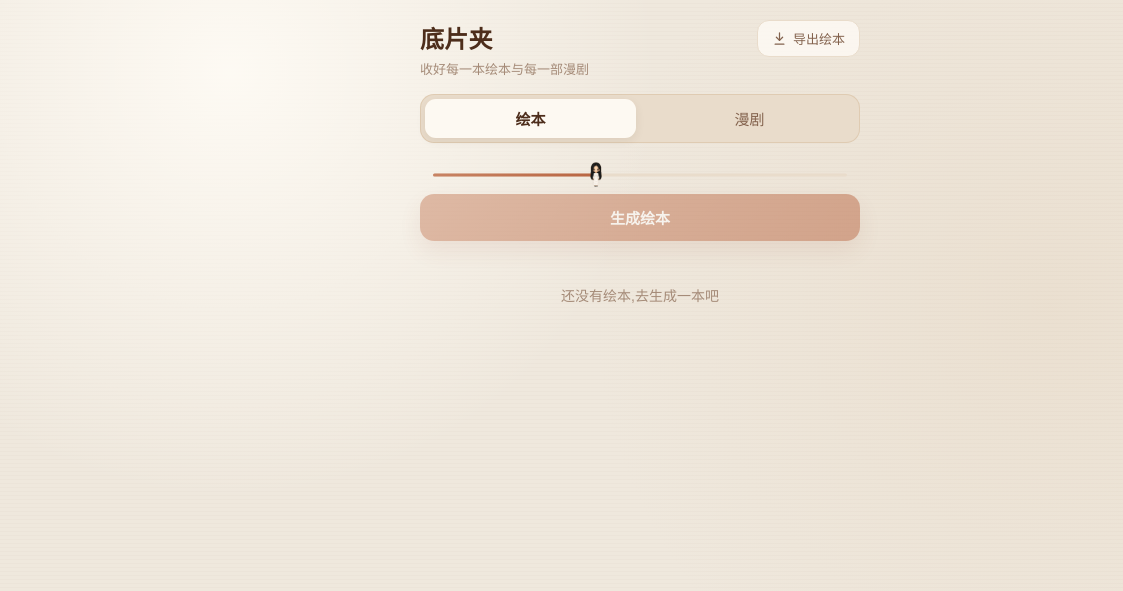
Test: FilmFolder › a slow picturebook response resolving after a tab switch cannot update motion state
Expected: the progress indicator with class "character-progress" is shown, 432,163 -> 847,180
Click the tab "漫剧" at (750, 118), box 644,99 -> 855,138
Wait 1000 ms
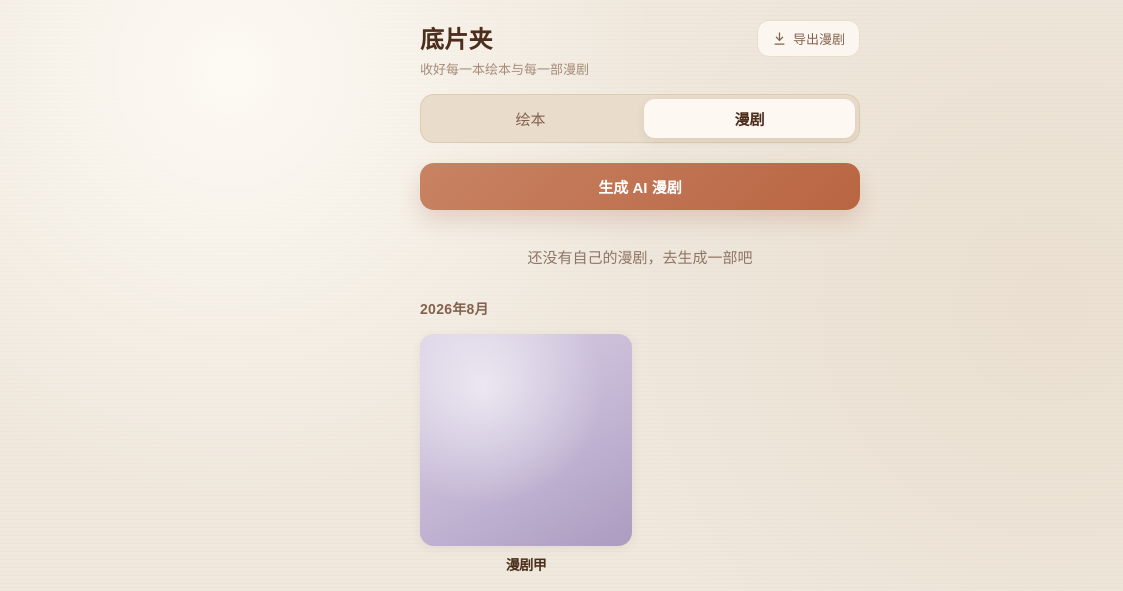
Expected: the progress indicator with class "character-progress" is gone
Expected: the button "漫剧甲" is shown, 422,554 -> 630,574
